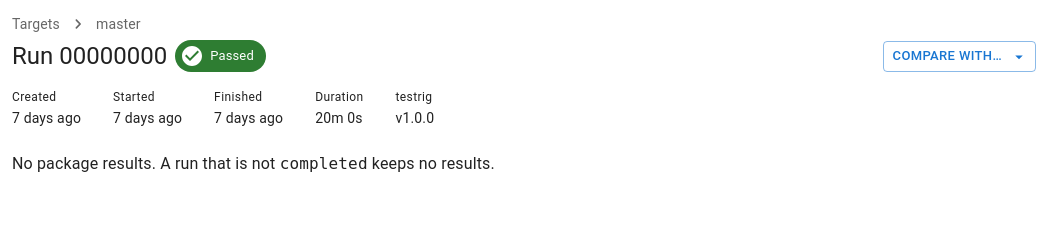
Test: RunDetailPage › offers the earlier completed runs to compare with, newest first
The image size is (1048, 230).
Click the button "Compare with…": (959, 57) [882,41,1036,72]
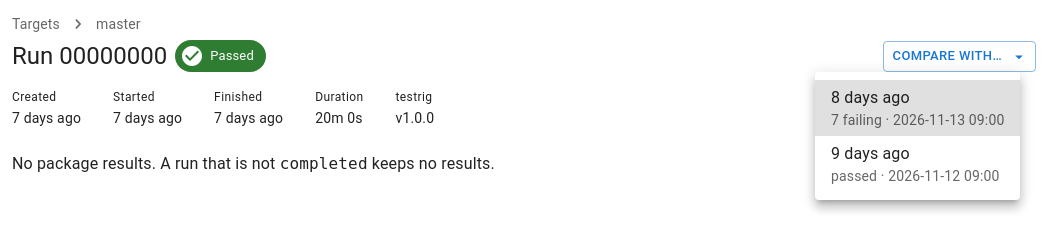
Expected: the number of menu items is 2, [815,80,1020,136]; [831,144,1000,184]
Expected: the menu item "8 days ago 7 failing · 2026-11-13 09:00" is shown, [815,80,1020,136]
Expected: the menu item "9 days ago passed · 2026-11-12 09:00" is shown, [831,144,1000,184]
